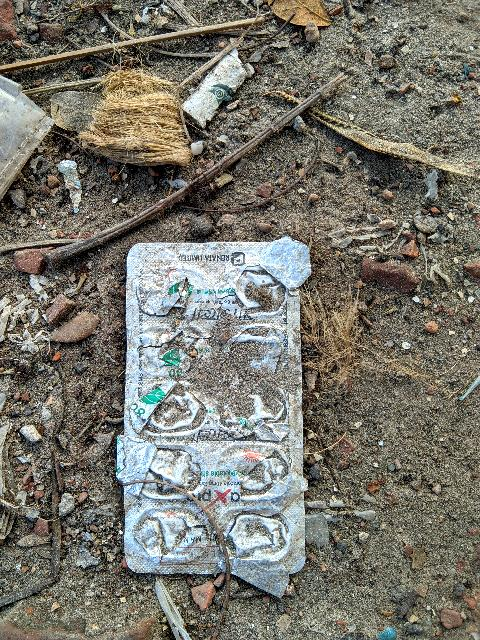medicine: (97, 229, 353, 606)
